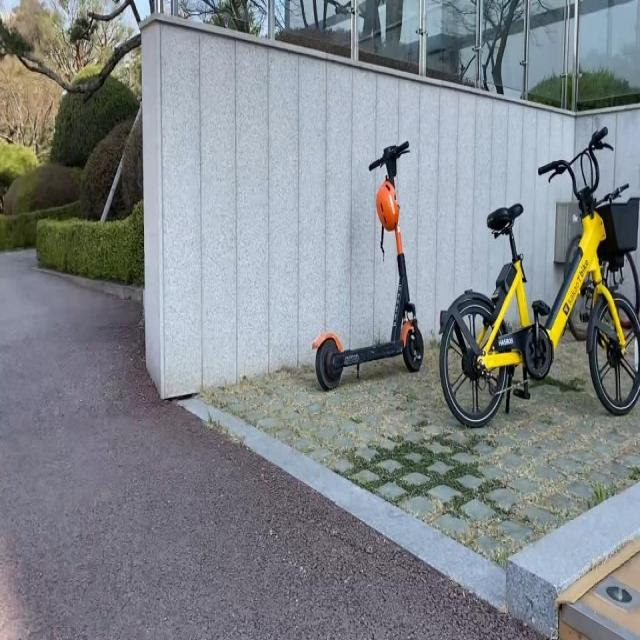sidewalk: (0, 249, 537, 638)
